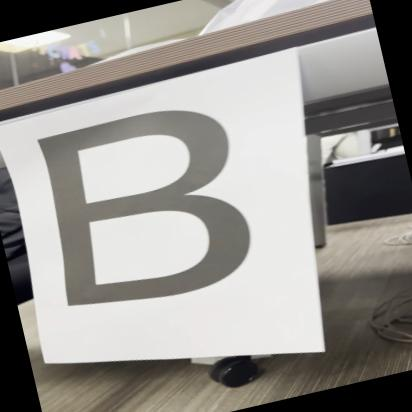seat: (16, 87, 282, 325)
